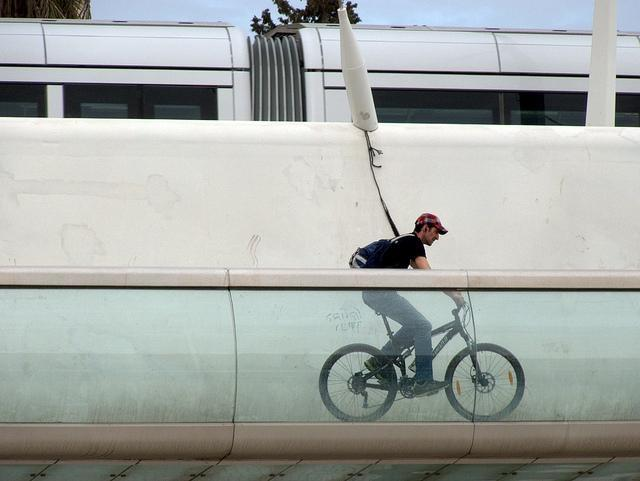bicycle: (320, 308, 528, 424)
